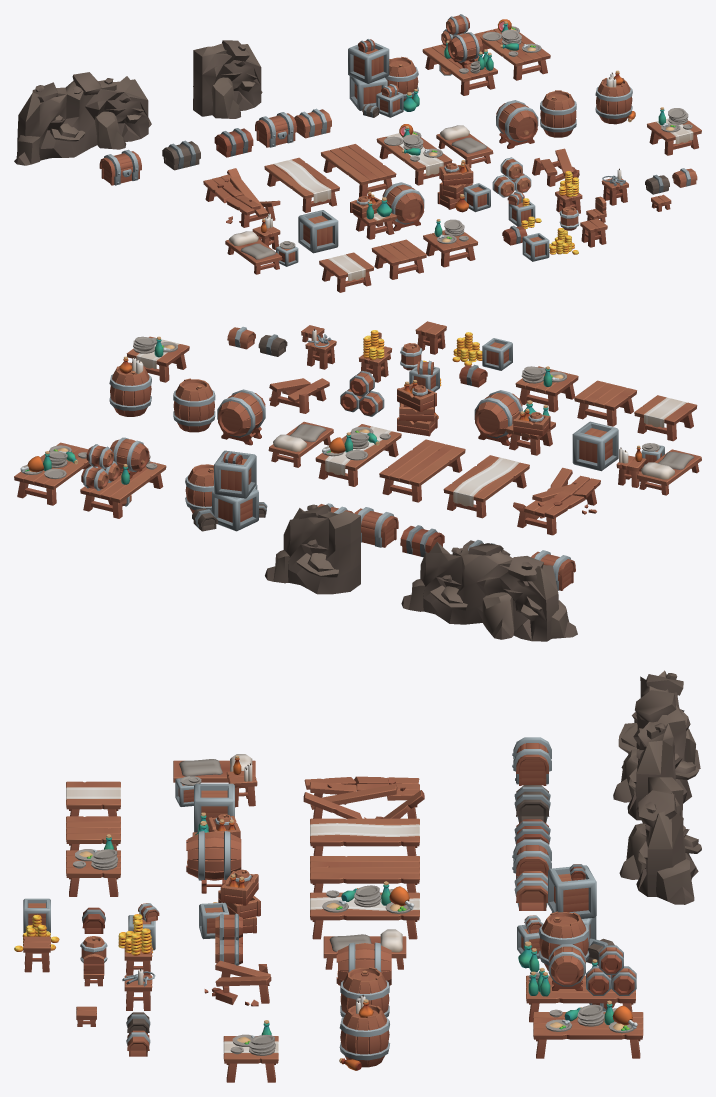
The model's file is props1_dungeon_game_assets.glb.
3 views of the same model, one above another, from view 1: azimuth 30°, elevation 25°; view 2: azimuth 150°, elevation 25°; view 3: azimuth 270°, elevation 25° (orthographic). The views are drawn at different scales.
Parts seen in each view (by area): view 1: rubble_large, rubble_half, box_stacked, table_long_decorated_C, keg_decorated, bed_decorated, table_long_tablecloth_decorated_A, table_long_tablecloth, table_long_decorated_A, table_long, crates_stacked, table_long_broken (+22 smaller); view 2: rubble_large, rubble_half, box_stacked, table_long_decorated_C, keg_decorated, table_long_tablecloth_decorated_A, table_long_tablecloth, bed_decorated, table_long, table_long_broken, table_long_decorated_A, keg (+23 smaller); view 3: rubble_large, rubble_half, box_stacked, table_long_decorated_C, table_long_tablecloth_decorated_A, table_long_decorated_A, table_long_broken, table_long_tablecloth, keg_decorated, table_long, barrel_large_decorated, bed_decorated (+22 smaller).
Part boxes in pixels (x1=…): rubble_large: x1=14, y1=72, x2=151, y2=165; rubble_half: x1=193, y1=40, x2=262, y2=118; box_stacked: x1=348, y1=39, x2=419, y2=117; table_long_decorated_C: x1=422, y1=14, x2=497, y2=95; keg_decorated: x1=350, y1=182, x2=424, y2=239; bed_decorated: x1=225, y1=213, x2=298, y2=274; table_long_tablecloth_decorated_A: x1=376, y1=124, x2=452, y2=185; table_long_tablecloth: x1=264, y1=157, x2=339, y2=212; table_long_decorated_A: x1=475, y1=19, x2=550, y2=80; table_long: x1=321, y1=144, x2=396, y2=196; crates_stacked: x1=437, y1=160, x2=490, y2=212; table_long_broken: x1=203, y1=168, x2=280, y2=227; rubble_large: x1=401, y1=542, x2=577, y2=641; rubble_half: x1=265, y1=504, x2=360, y2=594; box_stacked: x1=185, y1=450, x2=267, y2=531; table_long_decorated_C: x1=80, y1=437, x2=166, y2=518; keg_decorated: x1=474, y1=390, x2=555, y2=455; table_long_tablecloth_decorated_A: x1=315, y1=424, x2=401, y2=486; table_long_tablecloth: x1=443, y1=455, x2=529, y2=518; bed_decorated: x1=616, y1=443, x2=701, y2=495; table_long: x1=379, y1=439, x2=465, y2=502; table_long_broken: x1=513, y1=467, x2=600, y2=535; table_long_decorated_A: x1=14, y1=442, x2=91, y2=505; keg: x1=217, y1=389, x2=265, y2=445; rubble_large: x1=613, y1=670, x2=700, y2=820; rubble_half: x1=619, y1=777, x2=701, y2=904; box_stacked: x1=517, y1=864, x2=614, y2=971; table_long_decorated_C: x1=526, y1=944, x2=636, y2=1022; table_long_tablecloth_decorated_A: x1=310, y1=881, x2=419, y2=939; table_long_decorated_A: x1=533, y1=1000, x2=643, y2=1058; table_long_broken: x1=303, y1=776, x2=424, y2=818; table_long_tablecloth: x1=310, y1=818, x2=419, y2=855; keg_decorated: x1=186, y1=812, x2=241, y2=893; table_long: x1=310, y1=856, x2=419, y2=892; barrel_large_decorated: x1=339, y1=994, x2=389, y2=1070; bed_decorated: x1=173, y1=754, x2=257, y2=807.
Bounding box in the file's own units: 30.02 × 3.5 × 25.02.
40 materials, 40 textured.
